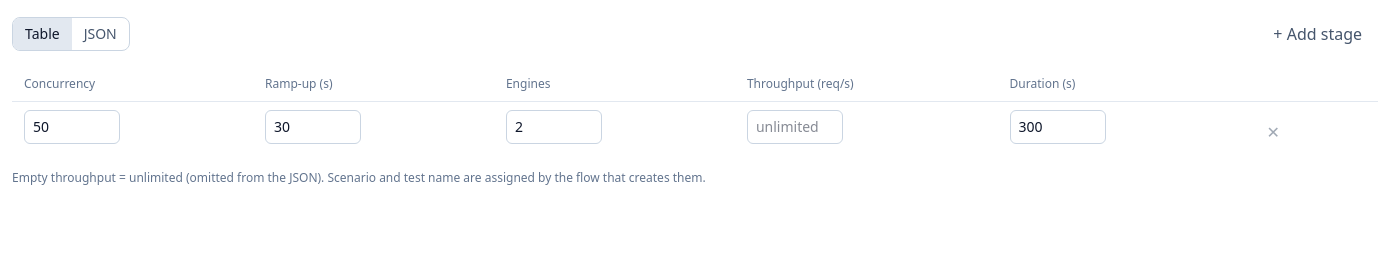
StageEditor table mode › adds a copy of the last row, removes rows, and keeps at least one
This screenshot has width=1390, height=263.
Click the button with aria-label "add stage".
click(1318, 34)  # box [1257,12,1378,56]
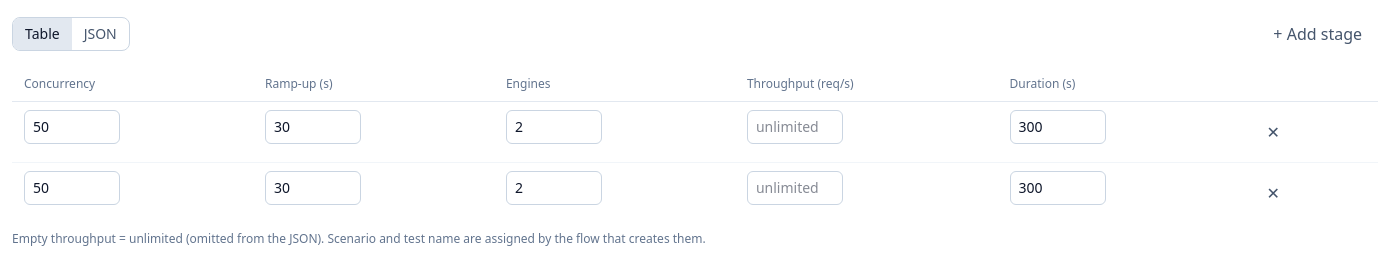
Click the button named "remove stage 2".
click(1273, 193)  # box [1251,171,1296,215]
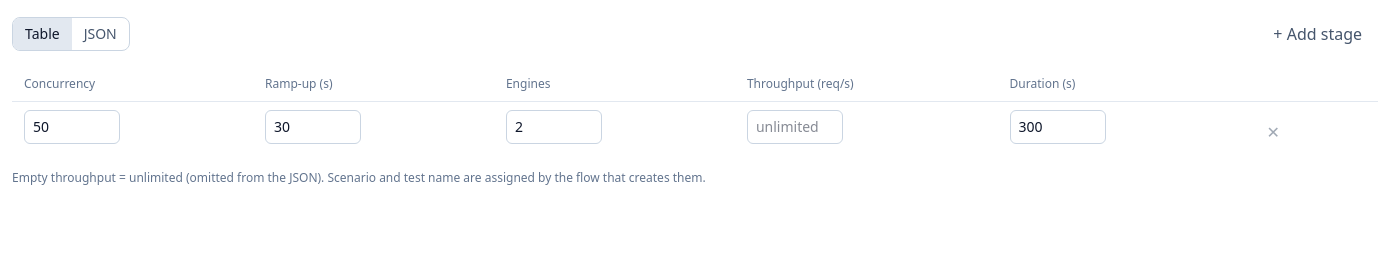
Expected: the button named "remove stage 1" is disabled, [1251,110,1296,154]
